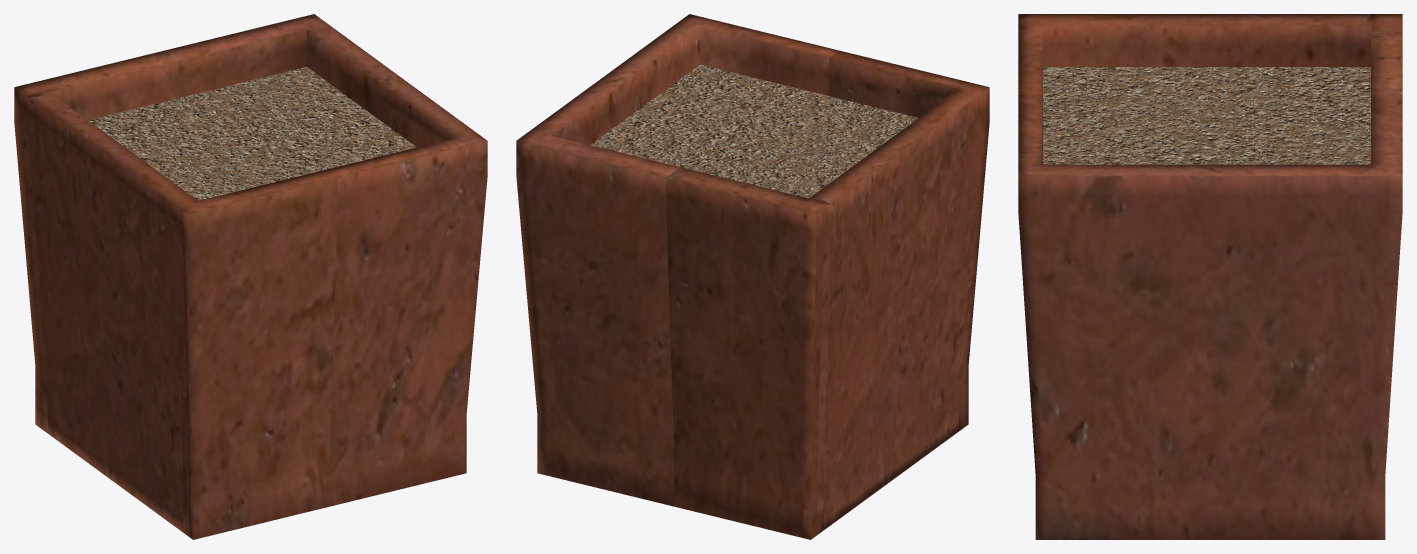
Rendered from Pot.fbx.
3 views of the same model, side by side, from view 1: azimuth 30°, elevation 25°; view 2: azimuth 150°, elevation 25°; view 3: azimuth 270°, elevation 25° (orthographic). The views are drawn at different scales.
Visible parts, largest first — view 1: Bamboo_02:polySurface31, Bamboo_02:Fake_Dirt; view 2: Bamboo_02:polySurface31, Bamboo_02:Fake_Dirt; view 3: Bamboo_02:polySurface31, Bamboo_02:Fake_Dirt.
Part boxes in pixels (bbox=[...]): Bamboo_02:polySurface31: bbox=[14, 14, 487, 539]; Bamboo_02:Fake_Dirt: bbox=[88, 67, 416, 200]; Bamboo_02:polySurface31: bbox=[516, 14, 989, 539]; Bamboo_02:Fake_Dirt: bbox=[590, 64, 918, 198]; Bamboo_02:polySurface31: bbox=[1018, 14, 1402, 539]; Bamboo_02:Fake_Dirt: bbox=[1043, 67, 1370, 164].
Bounding box in the file's own units: 3.29 × 3.51 × 3.29.
